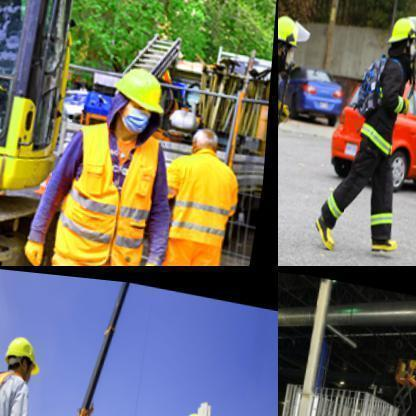Boots: (0, 332, 41, 379)
Glass: (61, 118, 172, 266), (327, 55, 415, 172)
